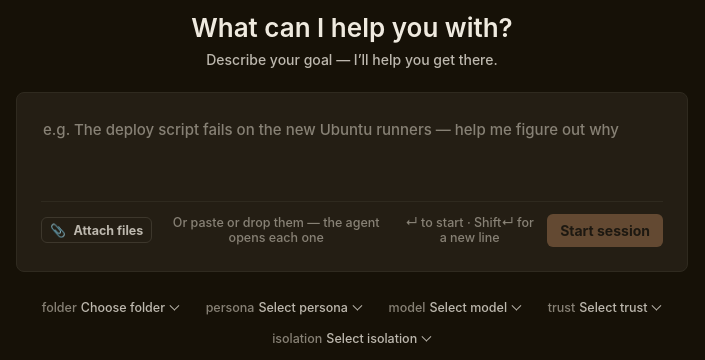
Test: Launchpad › disables Start session until the composer has text
expect the button "Start session" is disabled: met, box [547,214,663,247]
Replace the text in the text box named "Describe your goal" with "Fix the deploy script" at (352, 151), box [41,117,663,185]
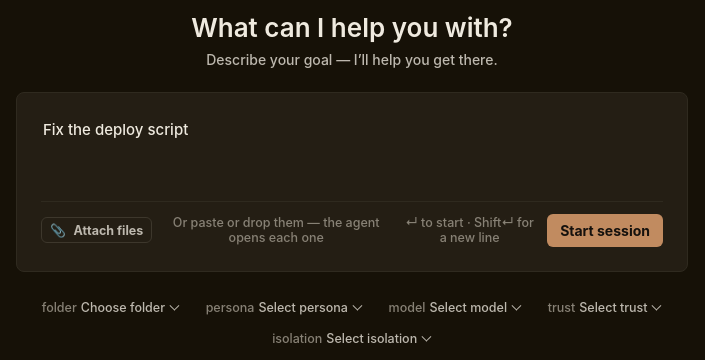
expect the button "Start session" is enabled: met, box [547,214,663,247]
